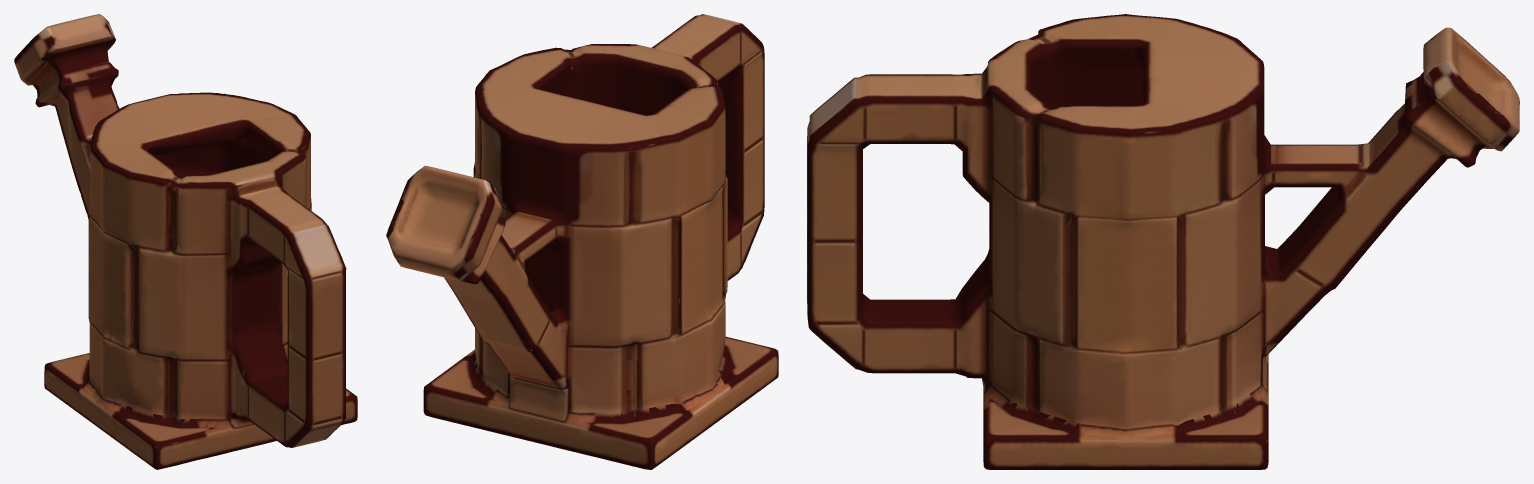
The model's file is watering_can.fbx.
The picture shows the model from 3 angles, left to right: view 1: azimuth 30°, elevation 25°; view 2: azimuth 150°, elevation 25°; view 3: azimuth 270°, elevation 25°; orthographic projection. The views are drawn at different scales.
Visible parts, largest first — view 1: Watering Can; view 2: Watering Can; view 3: Watering Can.
Boxes of the visible parts, box(x1,y1,x2,y2) form: Watering Can: box(14, 14, 357, 469); Watering Can: box(386, 14, 778, 469); Watering Can: box(807, 14, 1519, 469).
Bounding box in the file's own units: 16.1 × 22 × 38.76.
Materials: 1 (1 with a texture image).
